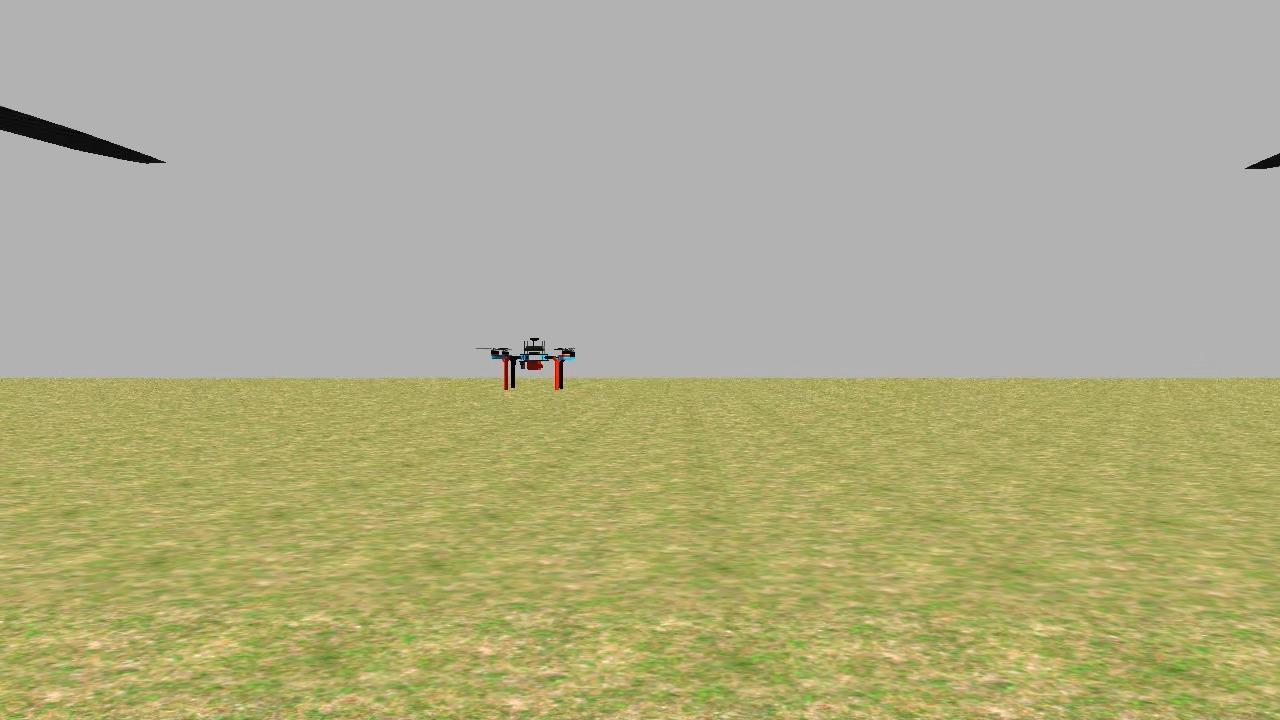UAV: (467, 327, 588, 388)
